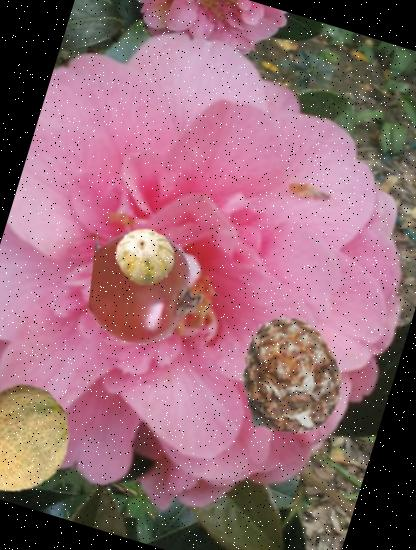Cantaloupe: (0, 370, 87, 510), (108, 220, 182, 294)
Pineapple: (216, 299, 368, 451)
Redcurrant: (76, 219, 217, 360)
